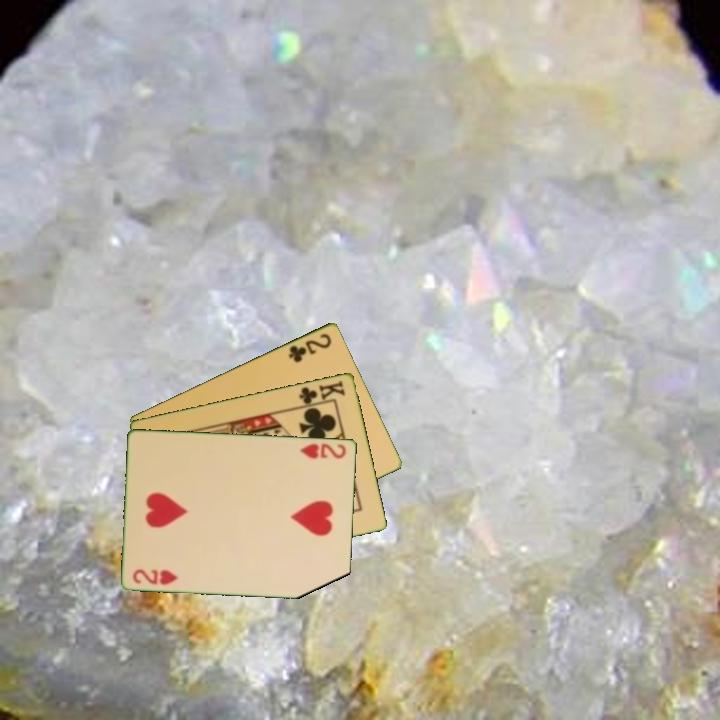2c: (285, 329, 334, 365)
2h: (297, 439, 349, 461), (130, 565, 181, 587)
Kc: (295, 376, 348, 409)
